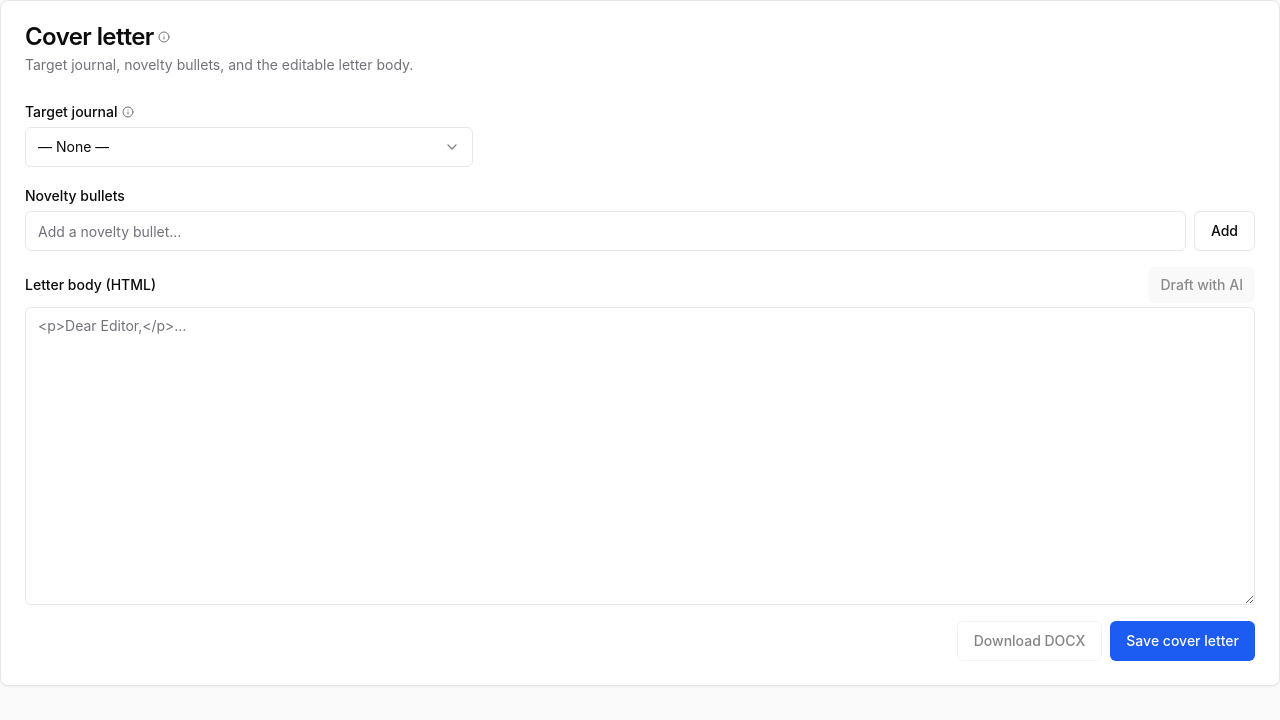
Test: CoverLetterEditor › adds and removes novelty bullets
Type "First MC trial" into the field with test id "cover-novelty-input".
click(605, 231); type("First MC trial")  # box [25,211,1186,251]
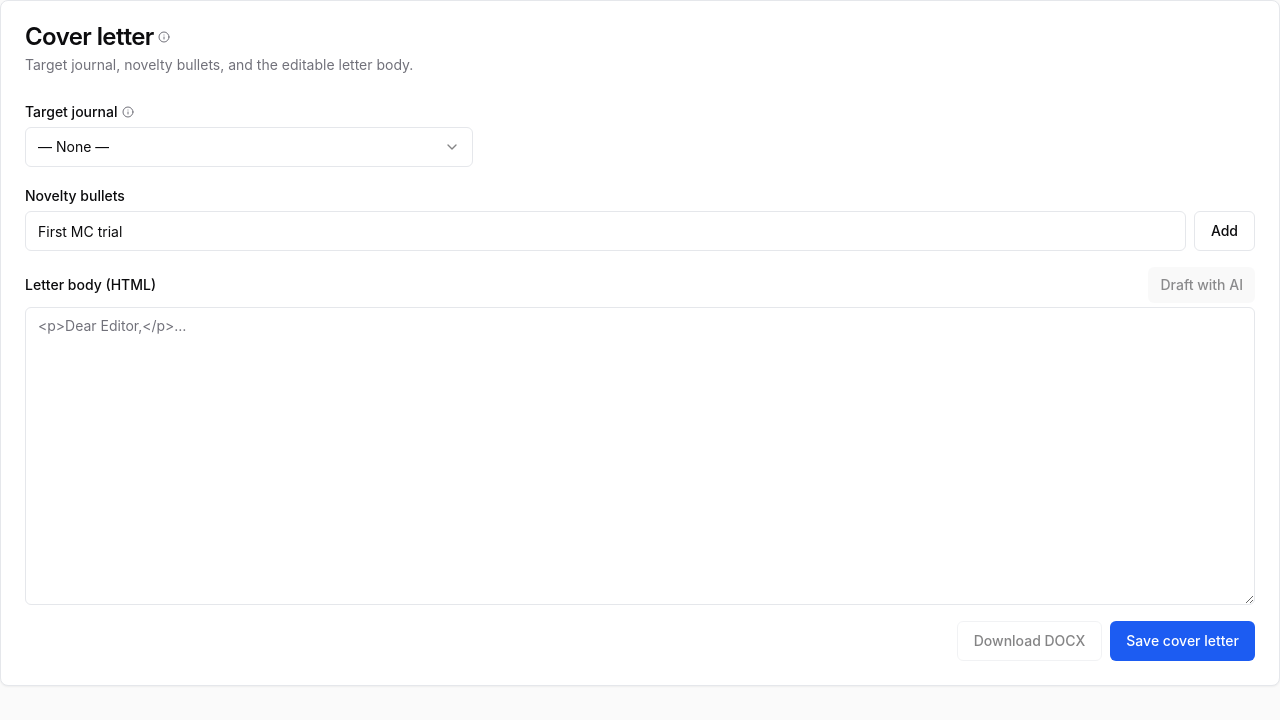
Click the button with test id "cover-novelty-add".
click(1224, 231)  # box [1194,211,1255,251]
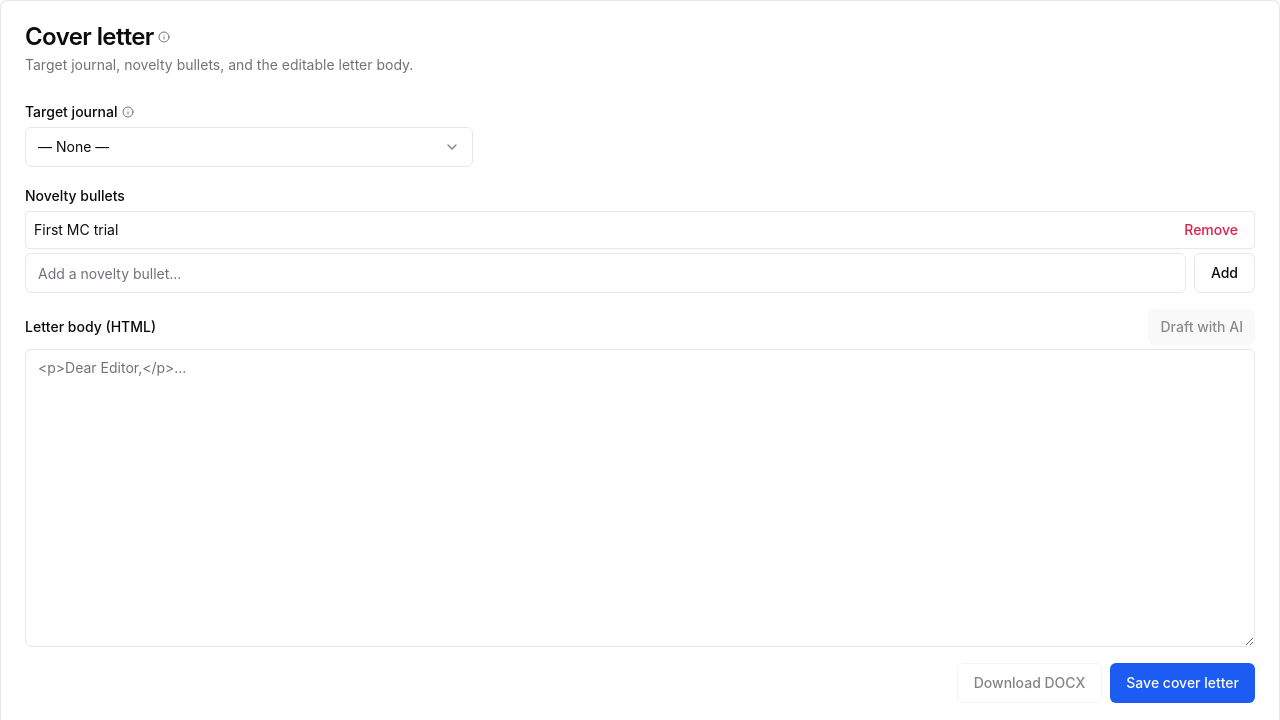
Expected: the button with test id "cover-novelty-remove-0" is shown
Click the button with test id "cover-novelty-remove-0".
click(1211, 230)  # box [1176,216,1246,244]
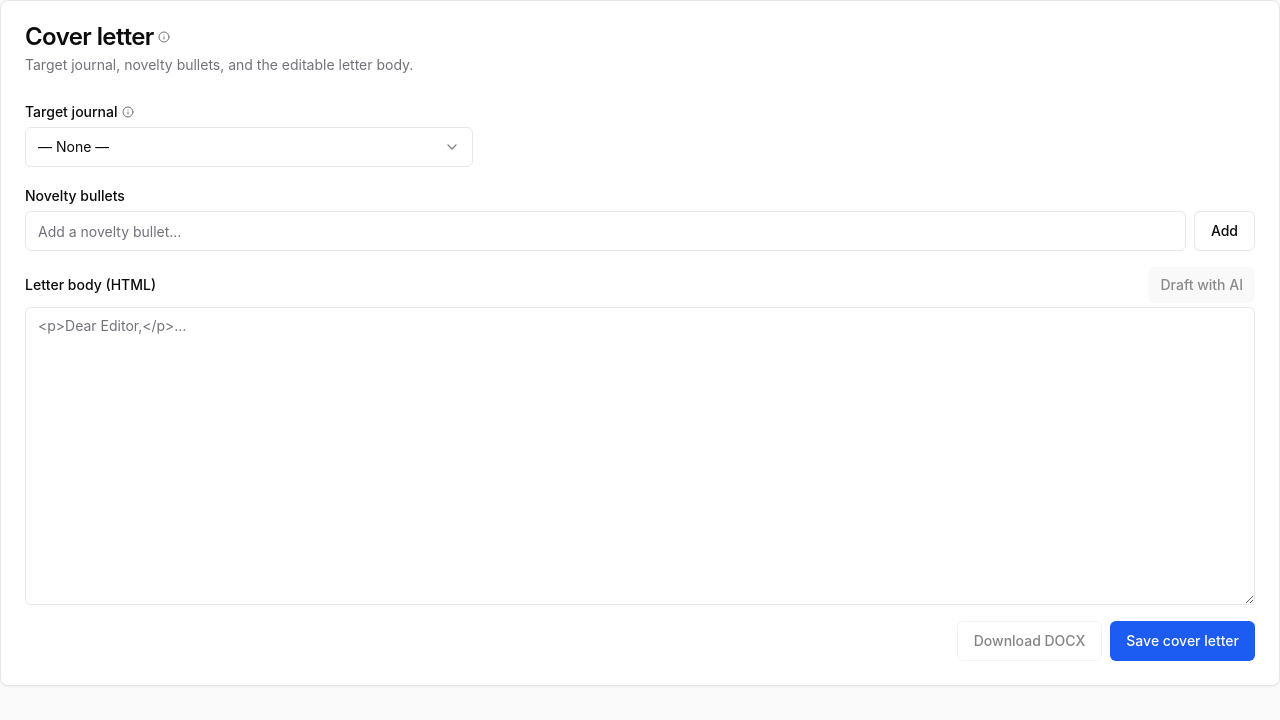
Expected: the button with test id "cover-novelty-remove-0" is gone
